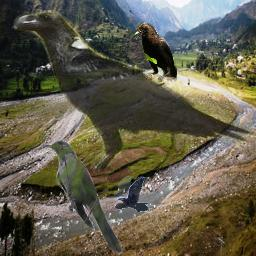Crow: (10, 10, 256, 176), (133, 22, 177, 82), (114, 176, 148, 212)
Cuckoo: (45, 140, 125, 254)
